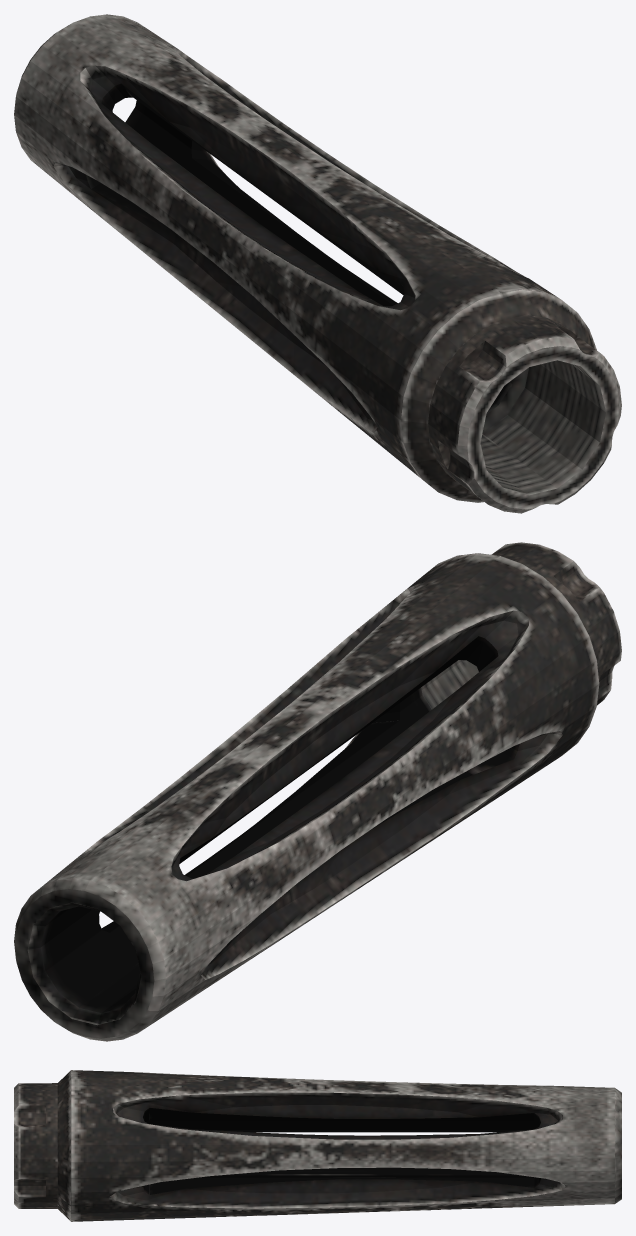
The picture shows the model from 3 angles, top to bottom: view 1: azimuth 30°, elevation 25°; view 2: azimuth 150°, elevation 25°; view 3: azimuth 270°, elevation 25°; orthographic projection. The views are drawn at different scales.
Parts seen in each view (by area): view 1: TW_5a0d716f1526d8000d26b1e2_PZ_Import; view 2: TW_5a0d716f1526d8000d26b1e2_PZ_Import; view 3: TW_5a0d716f1526d8000d26b1e2_PZ_Import.
Part boxes in pixels (<box>): TW_5a0d716f1526d8000d26b1e2_PZ_Import: <box>14,14,621,513</box>; TW_5a0d716f1526d8000d26b1e2_PZ_Import: <box>14,542,621,1041</box>; TW_5a0d716f1526d8000d26b1e2_PZ_Import: <box>14,1070,621,1221</box>.
Bounding box in the file's own units: 0.0127 × 0.0509 × 0.0127.
Materials: 1 (1 with a texture image).
